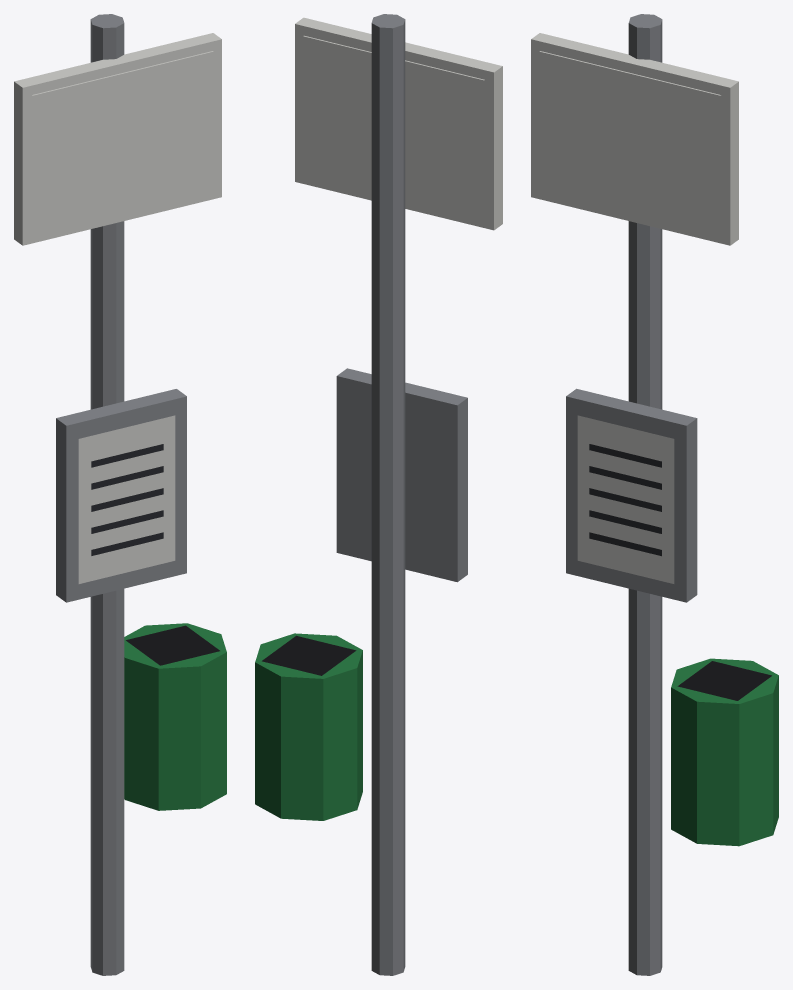
Rendered from prop_bus-pole.352c442129ca.glb.
3 renders of one model, left to right at view 1: azimuth 30°, elevation 25°; view 2: azimuth 150°, elevation 25°; view 3: azimuth 330°, elevation 25°, orthographic.
Visible parts, largest first — view 1: body; view 2: body; view 3: body.
Boxes of the visible parts, bbox=[...] form: body: bbox=[14, 14, 226, 975]; body: bbox=[255, 14, 502, 975]; body: bbox=[531, 14, 778, 975].
Size of the model in its own units: 0.73 by 3 by 0.32.
